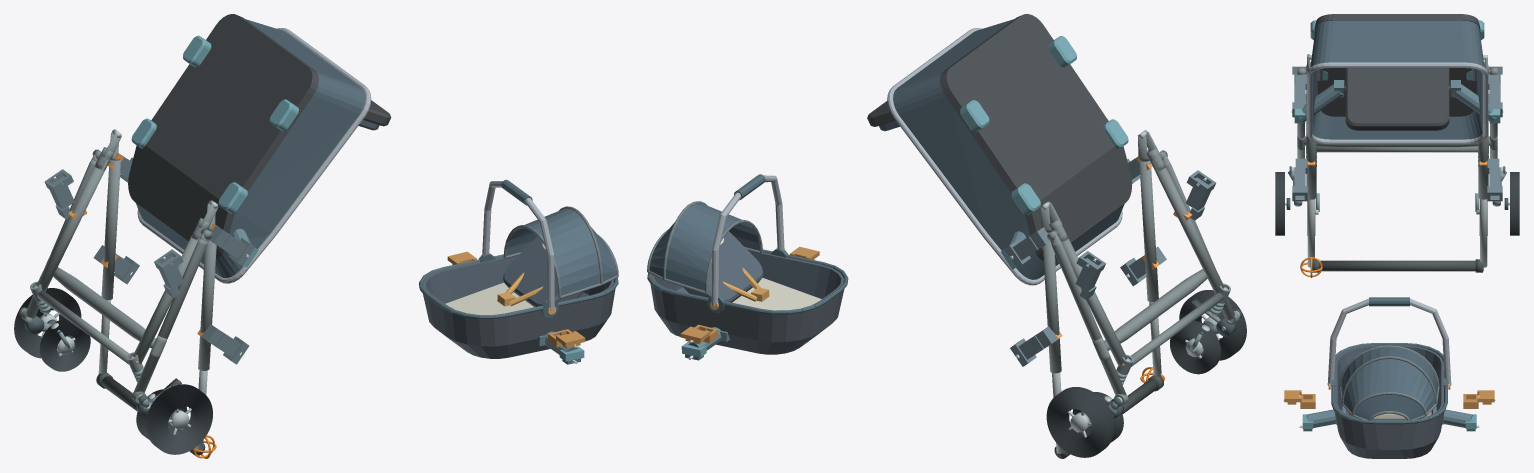
The model's file is D22_w650_state3_wheel_S.glb.
3 renders of one model, left to right at view 1: azimuth 30°, elevation 25°; view 2: azimuth 150°, elevation 25°; view 3: azimuth 270°, elevation 25°, orthographic. The views are drawn at different scales.
Parts seen in each view (by area): view 1: D22_Lower, D22_Upper, RL_tire.011, FR_tire.011, main_upper_1.012, V46_rearbar.011, main_lower_1.012, V46_rear_leg_-1.011, main_upper_-1.012, RR_tire.011, main_lower_-1.012, front_fixed_round_tube.011 (+5 smaller); view 2: D22_Lower, D22_Upper, RR_tire.011, FL_tire.011, main_upper_-1.012, V46_rearbar.011, main_lower_-1.012, V46_rear_leg_1.011, main_upper_1.012, RL_tire.011, main_lower_1.012, front_fixed_round_tube.011 (+6 smaller); view 3: D22_Lower, D22_Upper, round_handle.013, D22_Lower_Mount_M, D22_Upper_Mount_H, front_fixed_round_tube.011, RL_tire.011, RR_tire.011, main_upper_1.012, main_upper_-1.012, Universal_Cabin_Receiver_H_1, Universal_Cabin_Receiver_H_-1 (+7 smaller).
Boxes of the visible parts, box(x1,y1,x2,y2) form: D22_Lower: box(128, 14, 391, 283); D22_Upper: box(419, 179, 618, 358); RL_tire.011: box(145, 384, 212, 454); FR_tire.011: box(39, 318, 90, 371); main_upper_1.012: box(101, 159, 120, 300); V46_rearbar.011: box(53, 267, 155, 348); main_lower_1.012: box(36, 159, 108, 291); V46_rear_leg_-1.011: box(134, 238, 208, 392); main_upper_-1.012: box(198, 231, 216, 370); RR_tire.011: box(14, 288, 81, 358); main_lower_-1.012: box(133, 237, 199, 364); front_fixed_round_tube.011: box(37, 290, 129, 364); D22_Lower: box(867, 14, 1132, 285); D22_Upper: box(647, 174, 848, 354); RR_tire.011: box(1046, 387, 1114, 457); FL_tire.011: box(1170, 320, 1220, 374); main_upper_-1.012: box(1139, 160, 1158, 302); V46_rearbar.011: box(1104, 269, 1207, 350); main_lower_-1.012: box(1151, 160, 1224, 293); V46_rear_leg_1.011: box(1051, 240, 1126, 395); main_upper_1.012: box(1043, 232, 1061, 373); RL_tire.011: box(1179, 290, 1246, 360); main_lower_1.012: box(1059, 237, 1127, 366); front_fixed_round_tube.011: box(1131, 292, 1223, 366); D22_Lower: box(1306, 14, 1488, 144); D22_Upper: box(1327, 297, 1451, 458); round_handle.013: box(1319, 260, 1483, 271); D22_Lower_Mount_M: box(1291, 80, 1503, 123); D22_Upper_Mount_H: box(1299, 406, 1479, 431); front_fixed_round_tube.011: box(1316, 146, 1478, 152); RL_tire.011: box(1275, 172, 1284, 235); RR_tire.011: box(1510, 172, 1519, 235); main_upper_1.012: box(1478, 90, 1488, 199); main_upper_-1.012: box(1306, 90, 1316, 199); Universal_Cabin_Receiver_H_1: box(1487, 158, 1502, 201); Universal_Cabin_Receiver_H_-1: box(1292, 158, 1307, 201).
Size of the model in its own units: 1.68 by 1.09 by 0.766.
